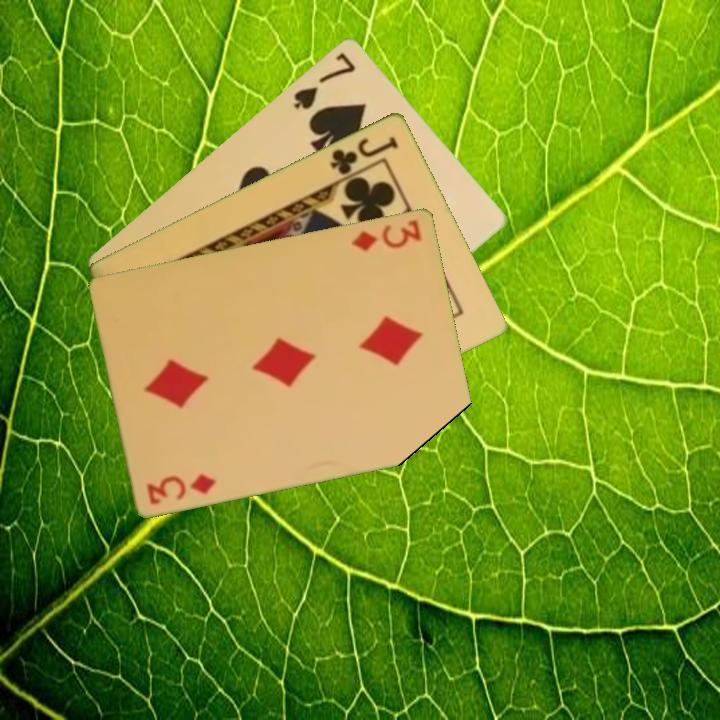3d: (348, 215, 424, 253), (143, 470, 219, 507)
7s: (290, 48, 359, 112)
Jc: (327, 132, 401, 178)
